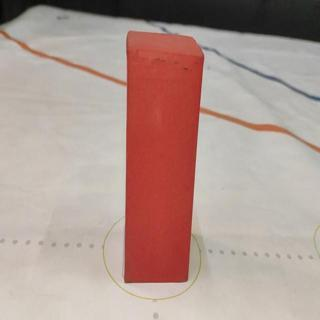redbox: (125, 29, 205, 283)
